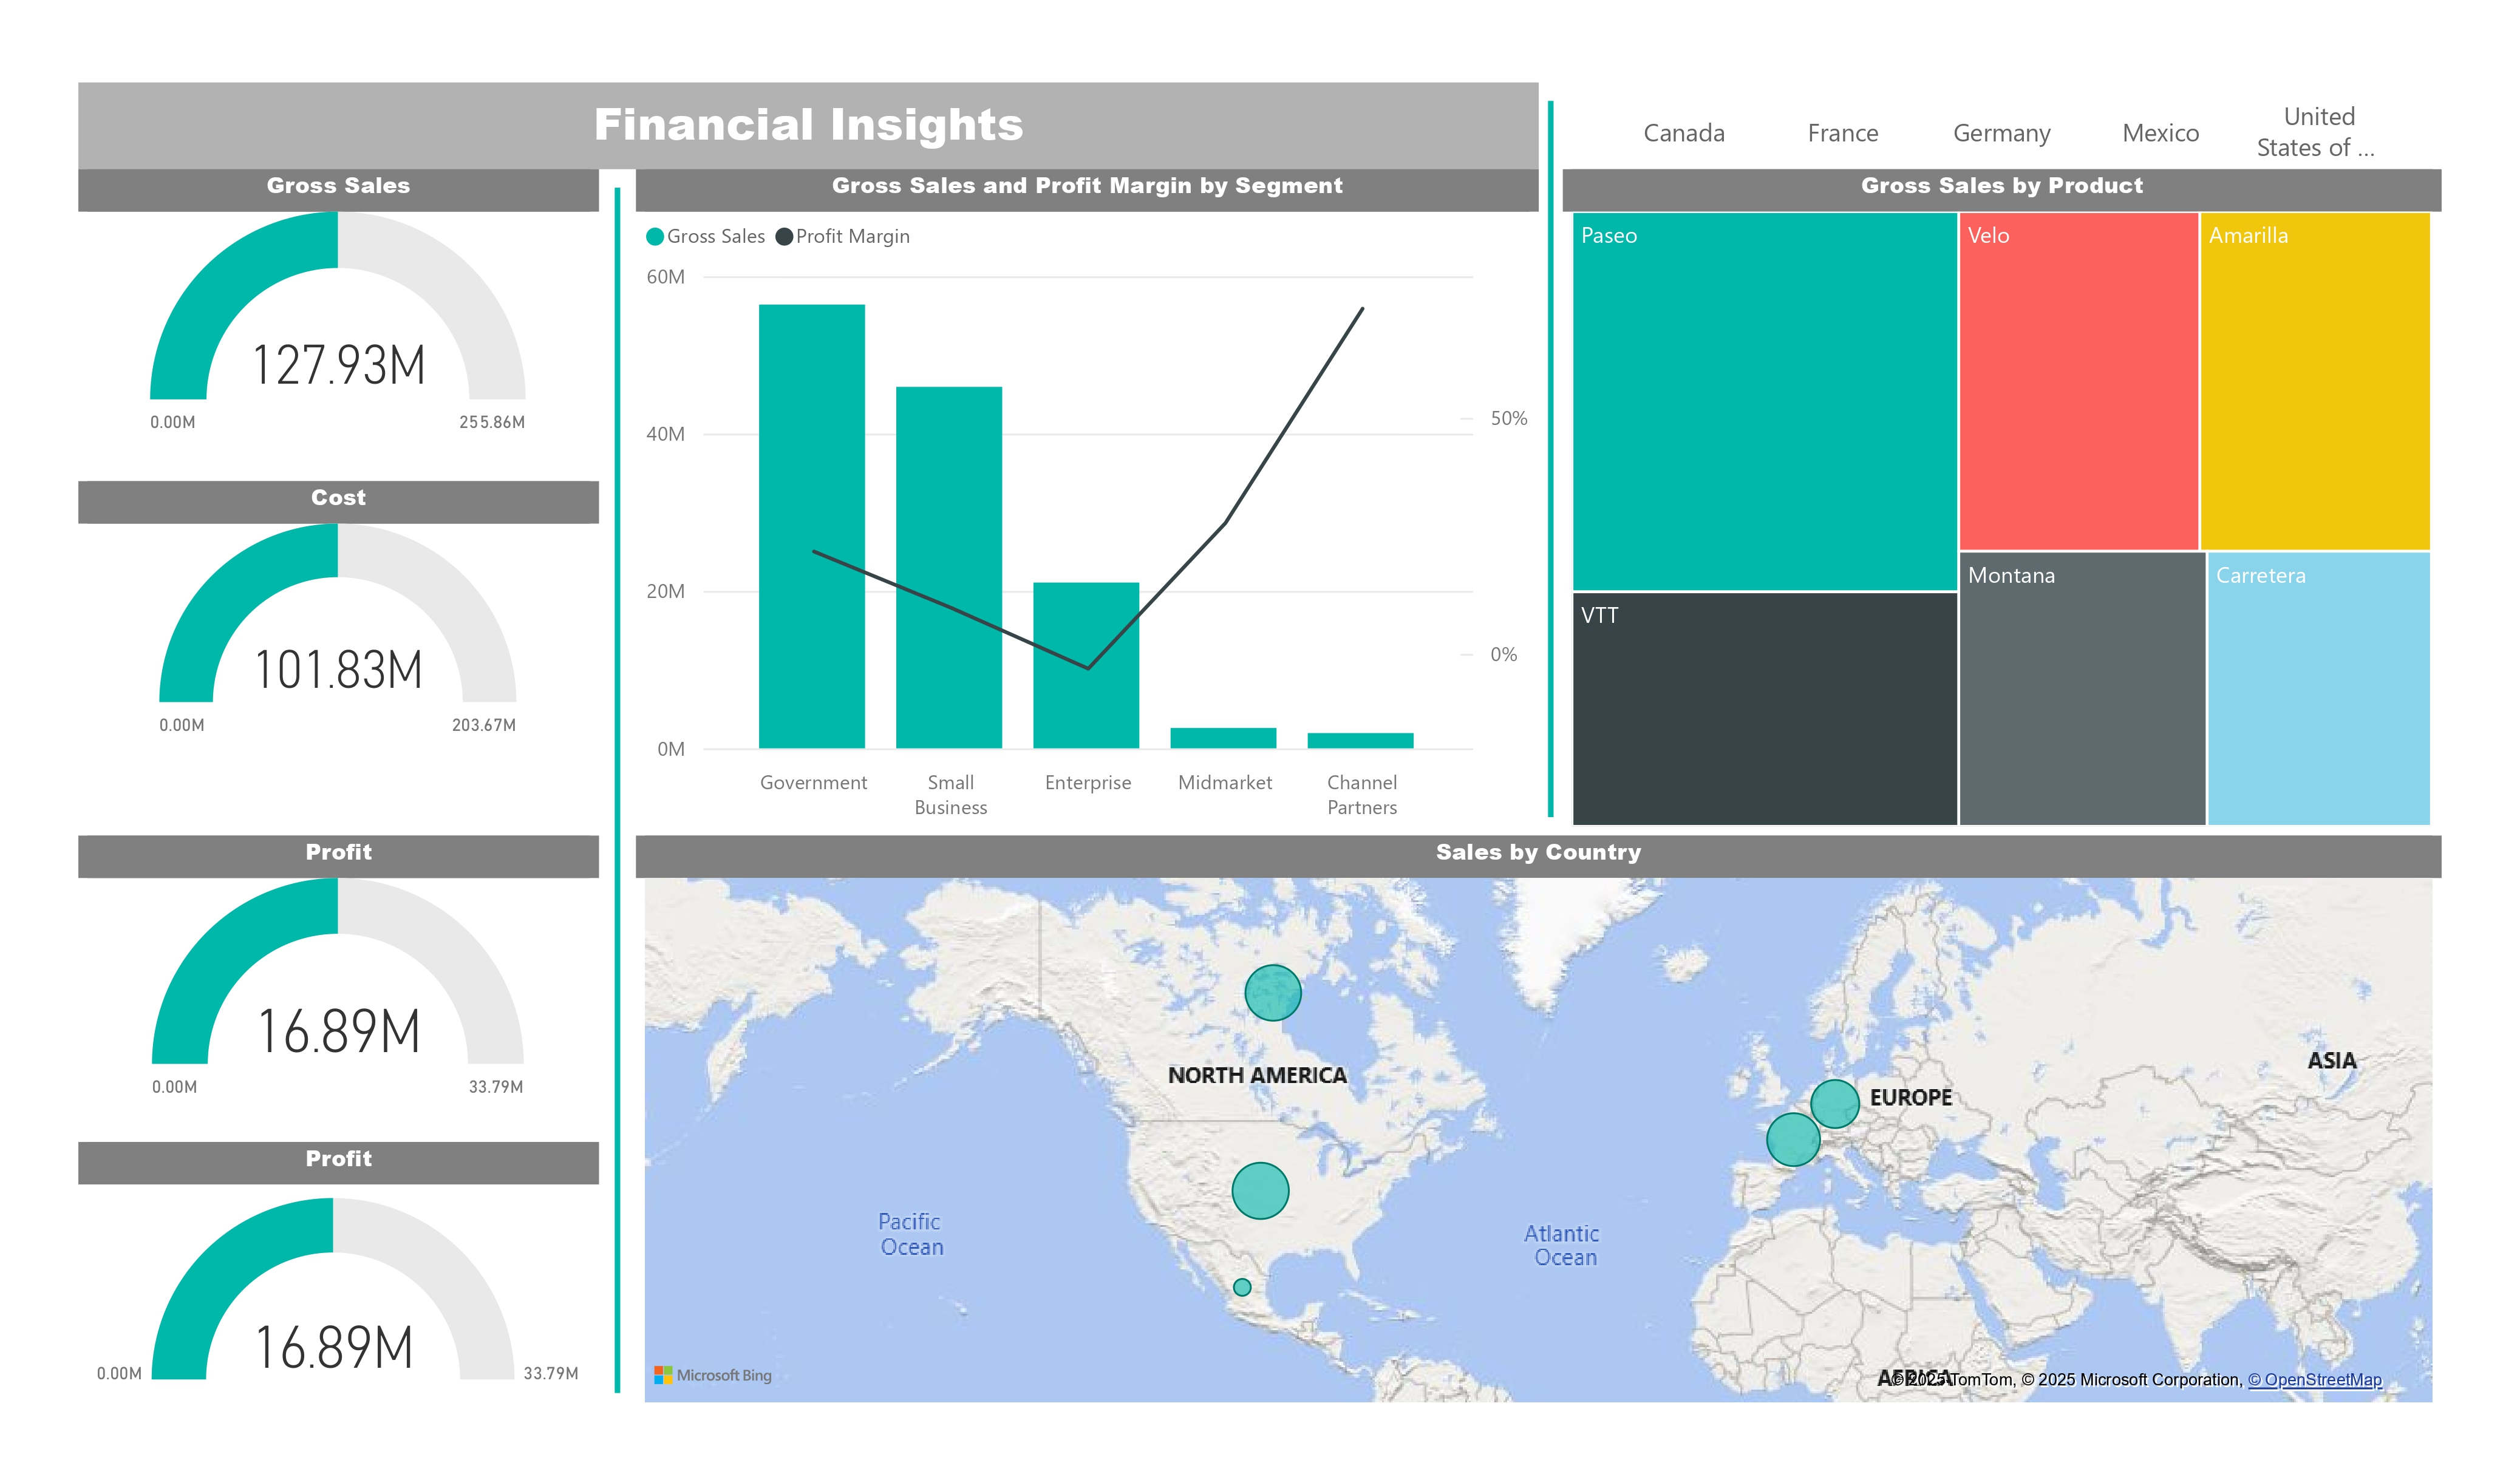

The dashboard page shown, as its layout file describes it:
{"tool":"powerbi","page":{"name":"Financial Insights","canvas":[1280,720],"ordinal":0},"visuals":[{"type":"gauge","fields":{"Y":["Sum(Sheet1.Gross Sales)"]},"box":[0,47.3,282.4,149.3],"z":0},{"type":"gauge","fields":{"Y":["Sum(Sheet1.Cost)"]},"box":[0,215.9,282.4,144.9],"z":1000},{"type":"gauge","fields":{"Y":["Sum(Sheet1.Profit)"]},"box":[0,408,282.4,149.3],"z":2000},{"type":"gauge","fields":{"Y":["Sum(Sheet1.Profit)"]},"box":[0,573.6,282.4,146.4],"z":3000},{"type":"basicShape","box":[282.4,47.3,19.2,672.7],"z":4000},{"type":"map","title":"Sales by Country","fields":{"Category":["Sheet1.Country"],"Size":["Sum(Sheet1. Sales)"]},"box":[301.6,408,978.7,312],"z":5000},{"type":"lineStackedColumnComboChart","fields":{"Y":["Sum(Sheet1.Gross Sales)"],"Category":["Sheet1.Segment"],"Y2":["Sheet1.Profit Margin"]},"box":[301.6,47.3,489.4,360.7],"z":6000},{"type":"basicShape","box":[791,0,13.3,408],"z":7000},{"type":"treemap","fields":{"Values":["Sum(Sheet1.Gross Sales)"],"Group":["Sheet1.Product"]},"box":[804,47,476,361],"z":8000},{"type":"textbox","box":[0,0,791,47.3],"z":9000},{"type":"slicer","fields":{"Values":["Sheet1.Country"]},"box":[804.3,0,476.1,47.3],"z":10000}]}

Visuals, with their boxes on the page's 1280x720 design canvas (x1, y1, x2, y2). These are canvas units, not pixel positions in the 2520x1457 screenshot, which may show the page scaled, cropped or inside an application window:
gauge - Sum(Sheet1.Gross Sales): <bbox>0, 47, 282, 197</bbox>
gauge - Sum(Sheet1.Cost): <bbox>0, 216, 282, 361</bbox>
gauge - Sum(Sheet1.Profit): <bbox>0, 408, 282, 557</bbox>
gauge - Sum(Sheet1.Profit): <bbox>0, 574, 282, 720</bbox>
basicShape: <bbox>282, 47, 302, 720</bbox>
"Sales by Country" map: <bbox>302, 408, 1280, 720</bbox>
lineStackedColumnComboChart - Sum(Sheet1.Gross Sales) x Sheet1.Segment: <bbox>302, 47, 791, 408</bbox>
basicShape: <bbox>791, 0, 804, 408</bbox>
treemap - Sum(Sheet1.Gross Sales) x Sheet1.Product: <bbox>804, 47, 1280, 408</bbox>
textbox: <bbox>0, 0, 791, 47</bbox>
slicer - Sheet1.Country: <bbox>804, 0, 1280, 47</bbox>
